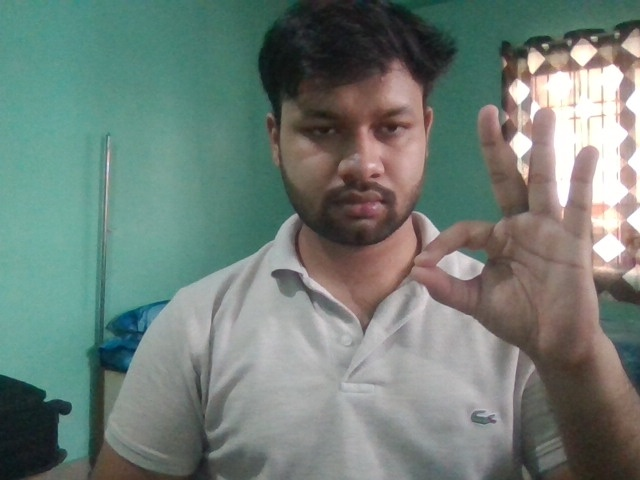Ok: (408, 103, 605, 368)
